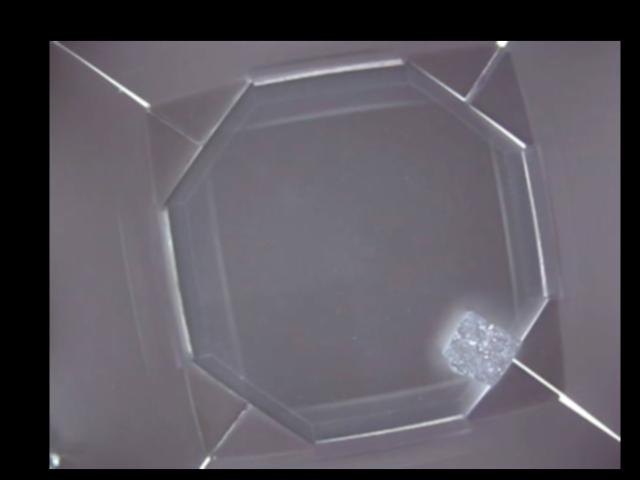China: (443, 311, 522, 386)
